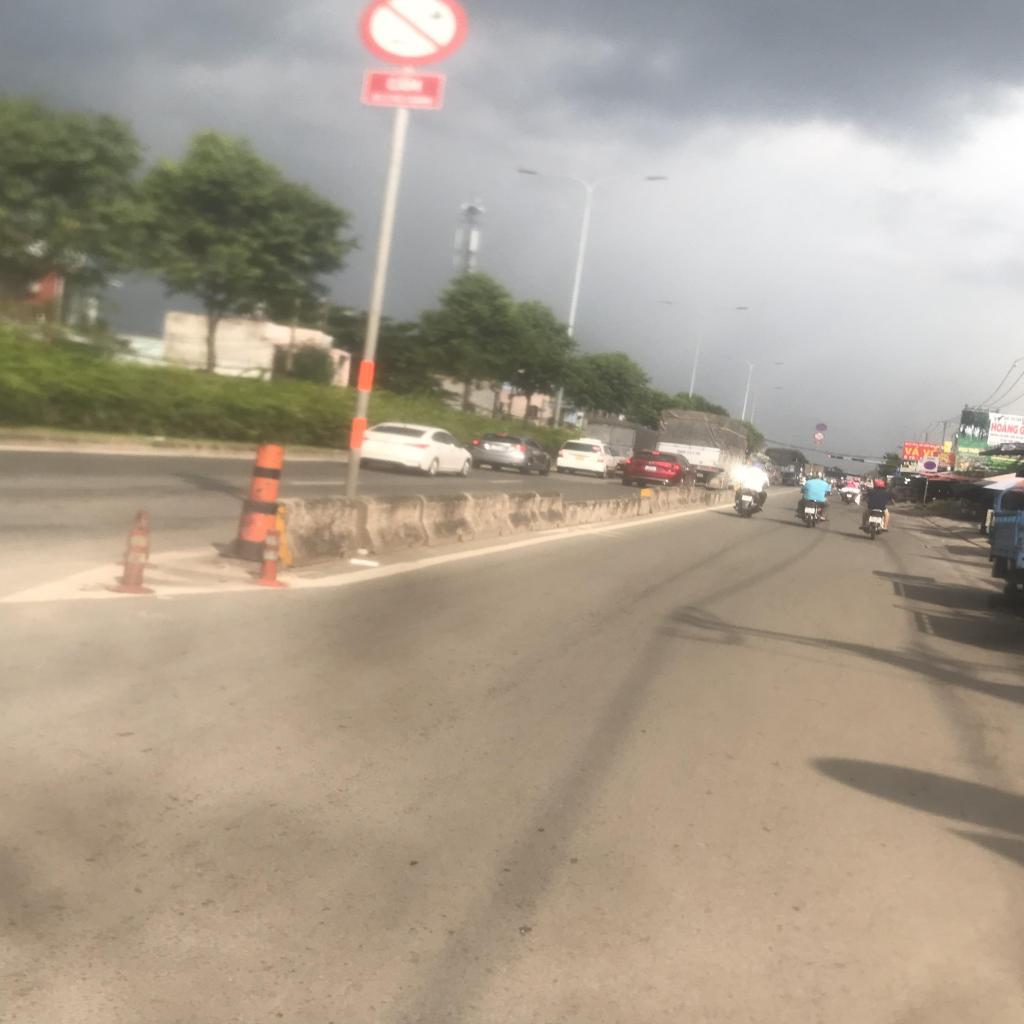cam_dung_xe_va_do_xe: (816, 422, 828, 432), (924, 461, 936, 469)
cam_xe_2_banh_va_xe_3_banh_co_dong_co: (360, 0, 466, 68), (813, 432, 826, 441)
